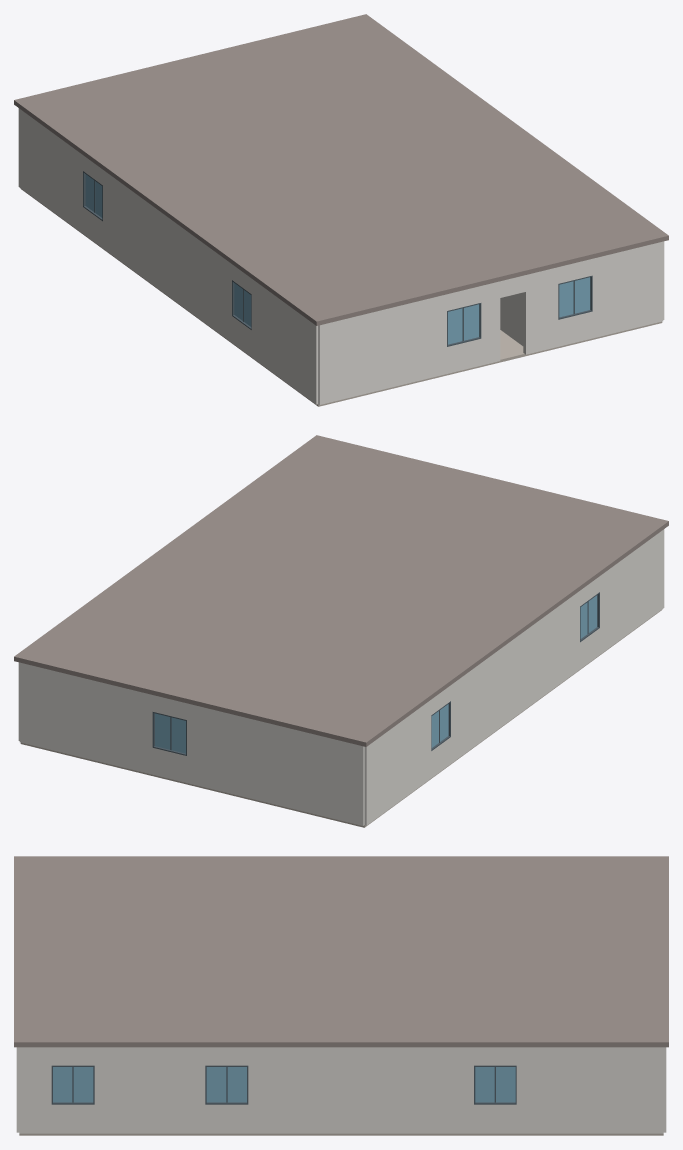
Rendered from verified-40x60.glb.
3 renders of one model, top to bottom at view 1: azimuth 30°, elevation 25°; view 2: azimuth 150°, elevation 25°; view 3: azimuth 270°, elevation 25°, orthographic. The views are drawn at different scales.
Visible parts, largest first — view 1: roof_0, wall_0_8, wall_0_13, wall_0_11, wall_0_14, wall_0_12, wall_0_10, wall_0_9, floor_slab_0, wall_0_24, window_0_1_pane, window_0_6_pane (+5 smaller); view 2: roof_0, wall_0_0, wall_0_1, wall_0_13, wall_0_12, wall_0_14, floor_slab_0, window_0_3_pane, wall_0_45, wall_0_44, window_0_2_pane; view 3: roof_0, wall_0_27, wall_0_26, wall_0_28, wall_0_29, floor_slab_0, window_0_5_pane, window_0_7_pane, window_0_4_pane, wall_0_51, wall_0_55, wall_0_48 (+3 smaller).
Part boxes in pixels (x1,y1,x2,y2): roof_0: [14, 14, 668, 325]; wall_0_8: [318, 294, 446, 404]; wall_0_13: [103, 170, 231, 342]; wall_0_11: [592, 241, 663, 338]; wall_0_14: [251, 279, 318, 404]; wall_0_12: [18, 108, 82, 233]; wall_0_10: [523, 267, 558, 354]; wall_0_9: [481, 281, 500, 365]; floor_slab_0: [20, 188, 662, 406]; wall_0_24: [500, 292, 523, 345]; window_0_1_pane: [448, 304, 479, 344]; window_0_6_pane: [559, 277, 590, 317]; roof_0: [14, 435, 668, 746]; wall_0_0: [187, 703, 364, 825]; wall_0_1: [19, 662, 152, 774]; wall_0_13: [451, 591, 579, 763]; wall_0_12: [364, 700, 431, 825]; wall_0_14: [600, 529, 664, 654]; floor_slab_0: [20, 609, 662, 827]; window_0_3_pane: [155, 713, 185, 753]; wall_0_45: [152, 748, 186, 782]; wall_0_44: [152, 695, 186, 719]; window_0_2_pane: [580, 595, 597, 638]; roof_0: [14, 856, 668, 1047]; wall_0_27: [248, 1047, 473, 1133]; wall_0_26: [516, 1047, 663, 1133]; wall_0_28: [94, 1047, 205, 1133]; wall_0_29: [19, 1047, 51, 1133]; floor_slab_0: [19, 1133, 663, 1135]; window_0_5_pane: [206, 1067, 246, 1102]; window_0_7_pane: [53, 1067, 93, 1102]; window_0_4_pane: [475, 1067, 515, 1102]; wall_0_51: [205, 1104, 248, 1133]; wall_0_55: [51, 1104, 94, 1133]; wall_0_48: [474, 1104, 516, 1133].
Size of the model in its own units: 41 by 9.8 by 61.
